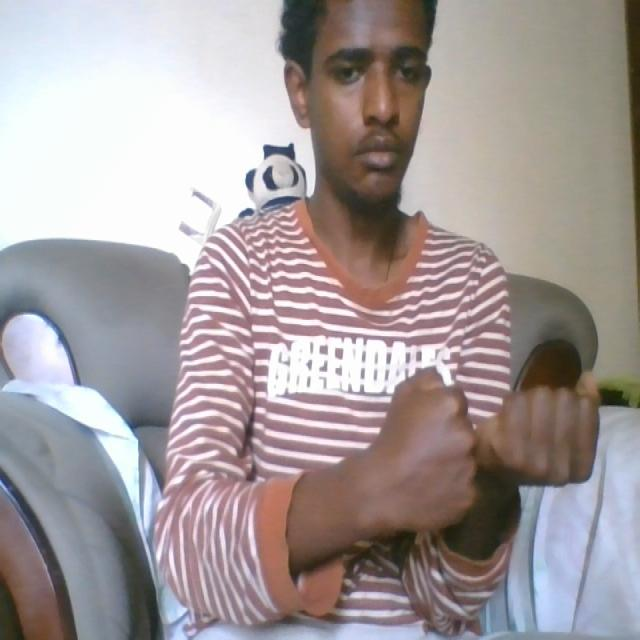beg: (334, 350, 613, 572)
